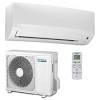ac: (2, 1, 97, 51)
